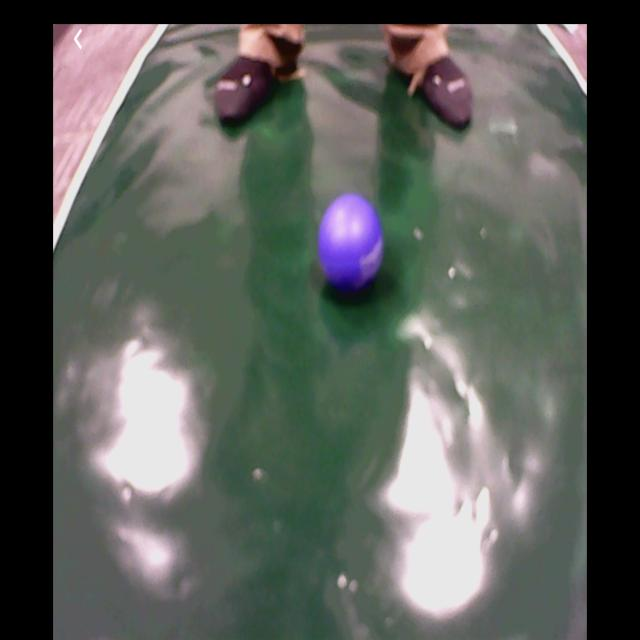ball: (323, 196, 383, 287)
